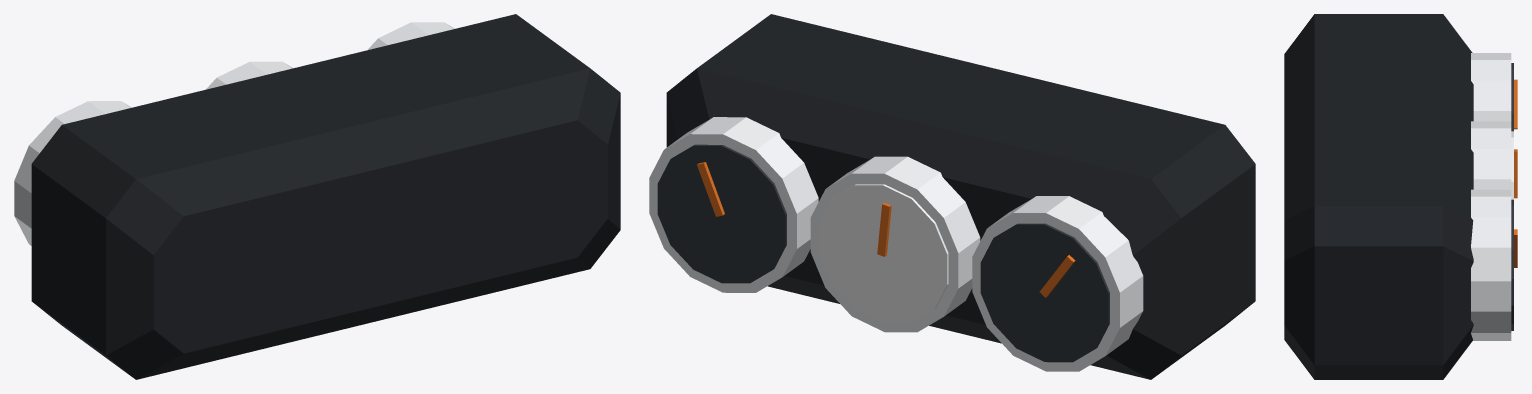
The model's file is brute_500.glb.
3 views of the same model, side by side, from view 1: azimuth 30°, elevation 25°; view 2: azimuth 150°, elevation 25°; view 3: azimuth 270°, elevation 25° (orthographic). The views are drawn at different scales.
Visible parts, largest first — view 1: model; view 2: model; view 3: model.
Boxes of the visible parts, x1=… form: model: x1=14, y1=14, x2=620, y2=379; model: x1=649, y1=14, x2=1255, y2=379; model: x1=1284, y1=14, x2=1517, y2=379.
Bounding box in the file's own units: 0.204 × 0.076 × 0.0925.
Materials: 2 (1 with a texture image).
